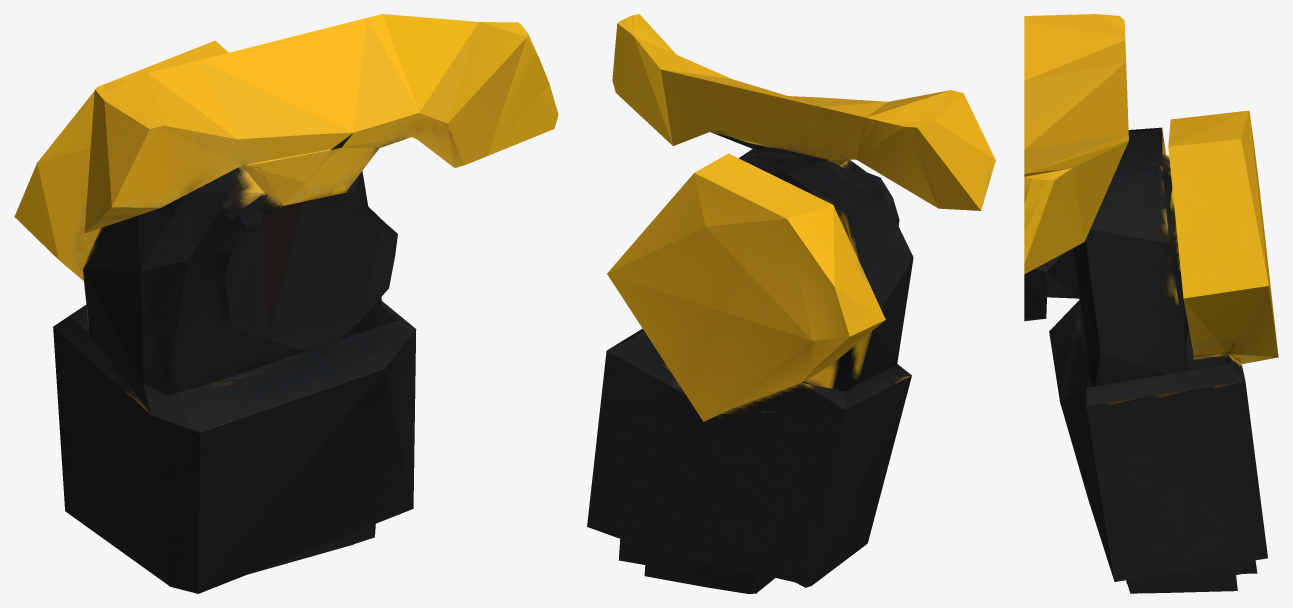
The model's file is SM_ChaserV2Debris_Thigh_L.fbx.
3 renders of one model, left to right at view 1: azimuth 30°, elevation 25°; view 2: azimuth 150°, elevation 25°; view 3: azimuth 270°, elevation 25°, orthographic. The views are drawn at different scales.
Parts seen in each view (by area): view 1: SM_ChaserV2Debris_Thigh_L; view 2: SM_ChaserV2Debris_Thigh_L; view 3: SM_ChaserV2Debris_Thigh_L.
Boxes of the visible parts, <box> form: SM_ChaserV2Debris_Thigh_L: <box>14,14,558,593</box>; SM_ChaserV2Debris_Thigh_L: <box>587,14,995,593</box>; SM_ChaserV2Debris_Thigh_L: <box>1024,14,1278,593</box>.
Size of the model in its own units: 23.34 by 25.8 by 13.04.
Materials: 1 (1 with a texture image).
